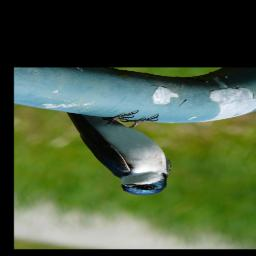Swallow: (67, 109, 174, 197)
